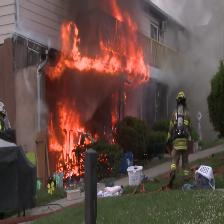fire: (32, 15, 161, 190)
smoke: (60, 0, 224, 63), (153, 0, 224, 140)
